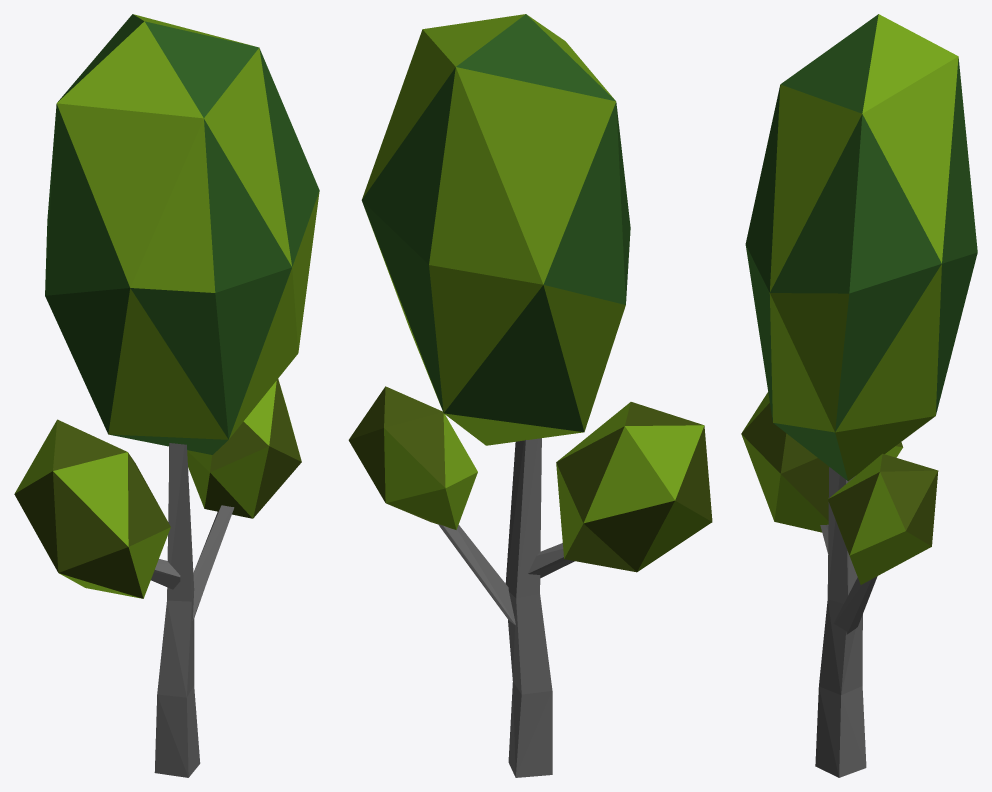
The model's file is Tree1_M1_9_big.fbx.
The picture shows the model from 3 angles, left to right: view 1: azimuth 30°, elevation 25°; view 2: azimuth 150°, elevation 25°; view 3: azimuth 270°, elevation 25°; orthographic projection. The views are drawn at different scales.
Parts seen in each view (by area): view 1: Tree1_M1_9_big; view 2: Tree1_M1_9_big; view 3: Tree1_M1_9_big.
Part boxes in pixels (box(x1,y1,x2,y2)): Tree1_M1_9_big: box(14, 14, 319, 777); Tree1_M1_9_big: box(348, 14, 712, 777); Tree1_M1_9_big: box(741, 14, 977, 777).
Bounding box in the file's own units: 283 × 670 × 193.
